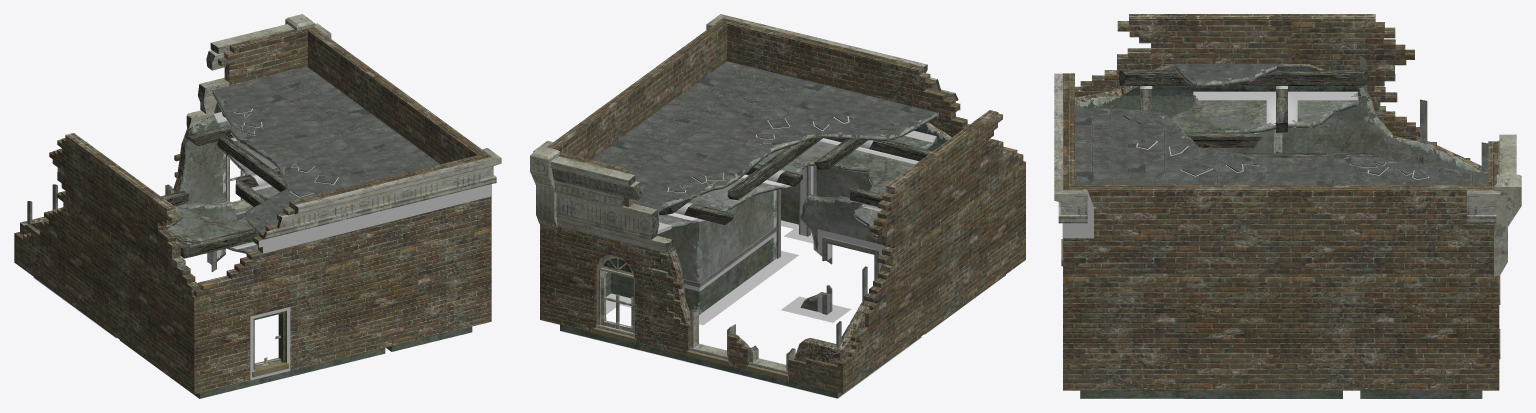
File: OTBuildingDestroyed01Top01.FBX
3 renders of one model, left to right at view 1: azimuth 30°, elevation 25°; view 2: azimuth 150°, elevation 25°; view 3: azimuth 270°, elevation 25°, orthographic. The views are drawn at different scales.
Visible parts, largest first — view 1: OTBldgDestroy01Top01:0, OTBldgDestroy01Top01:4, OTBldgDestroy01Top01:1, OTBldgDestroy01Top01:5, OTBldgDestroy01Top01:6; view 2: OTBldgDestroy01Top01:0, OTBldgDestroy01Top01:4, OTBldgDestroy01Top01:1, OTBldgDestroy01Top01:5, OTBldgDestroy01Top01:6; view 3: OTBldgDestroy01Top01:0, OTBldgDestroy01Top01:4, OTBldgDestroy01Top01:1, OTBldgDestroy01Top01:5, OTBldgDestroy01Top01:6.
Part boxes in pixels (x1,y1,x2,y2): OTBldgDestroy01Top01:0: (14, 26, 491, 394); OTBldgDestroy01Top01:4: (27, 67, 472, 398); OTBldgDestroy01Top01:1: (20, 14, 501, 377); OTBldgDestroy01Top01:5: (33, 108, 491, 398); OTBldgDestroy01Top01:6: (32, 90, 289, 261); OTBldgDestroy01Top01:0: (540, 18, 1025, 393); OTBldgDestroy01Top01:4: (560, 61, 1005, 398); OTBldgDestroy01Top01:1: (530, 14, 958, 380); OTBldgDestroy01Top01:5: (560, 100, 1005, 398); OTBldgDestroy01Top01:6: (660, 113, 950, 347); OTBldgDestroy01Top01:0: (1063, 14, 1499, 390); OTBldgDestroy01Top01:4: (1075, 55, 1488, 398); OTBldgDestroy01Top01:1: (1054, 54, 1521, 359); OTBldgDestroy01Top01:5: (1062, 86, 1482, 398); OTBldgDestroy01Top01:6: (1077, 64, 1485, 173).
Size of the model in its own units: 7.84 by 4.52 by 8.61.
